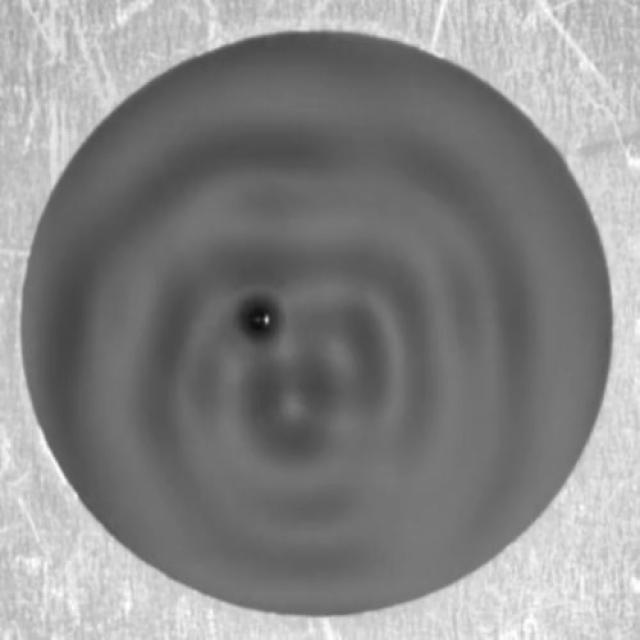droplet: (248, 304, 276, 334)
